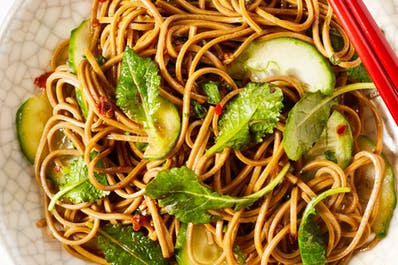Soba: (43, 1, 382, 265)
